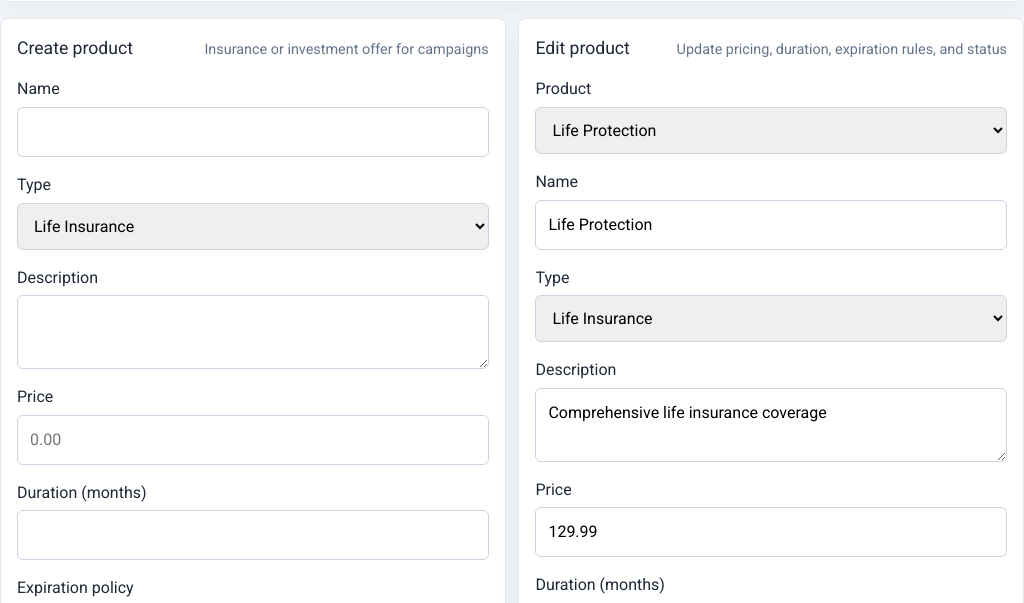
ProductsPage › validates the create product form before posting
Type "-5" into the field named "Product price" at (253, 440), box left=17, top=415, right=489, bottom=465
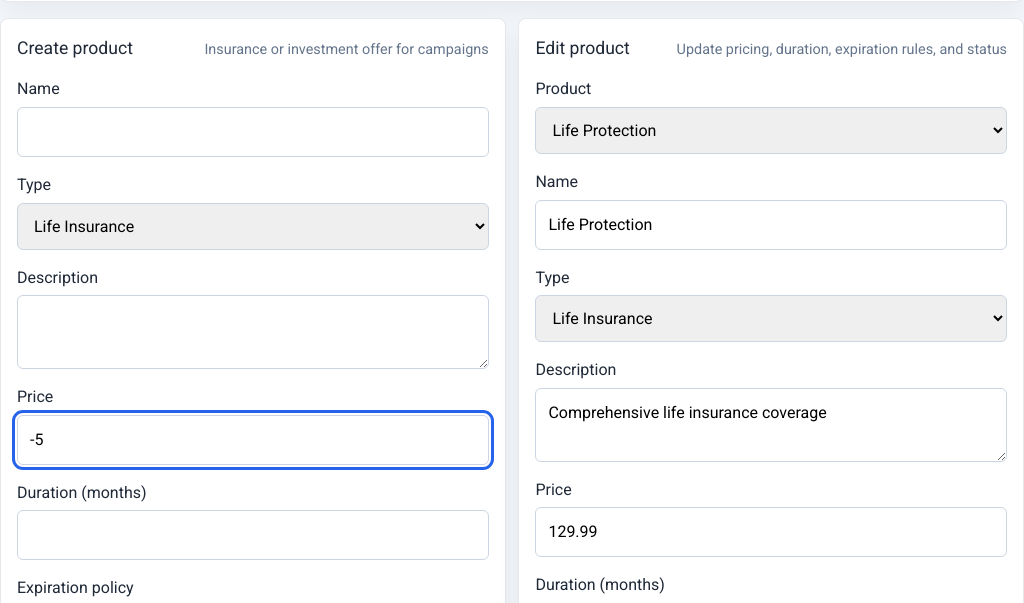
Type "0" into the field named "Product duration in months" at (253, 535), box left=17, top=510, right=489, bottom=560
(page scrolled)
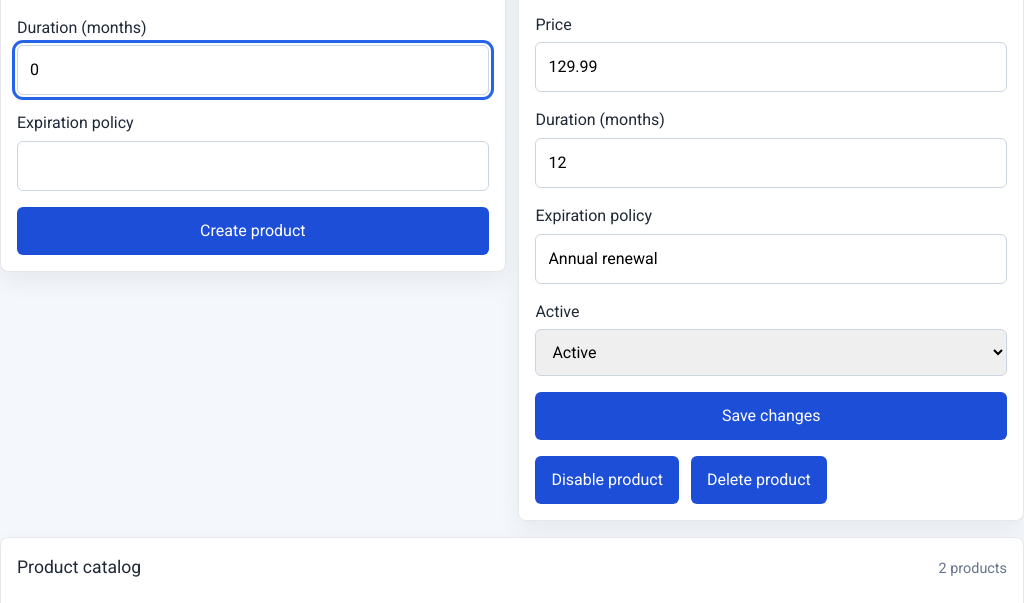
Click the button "Create product" at (253, 231), box left=17, top=207, right=489, bottom=255
(page scrolled)
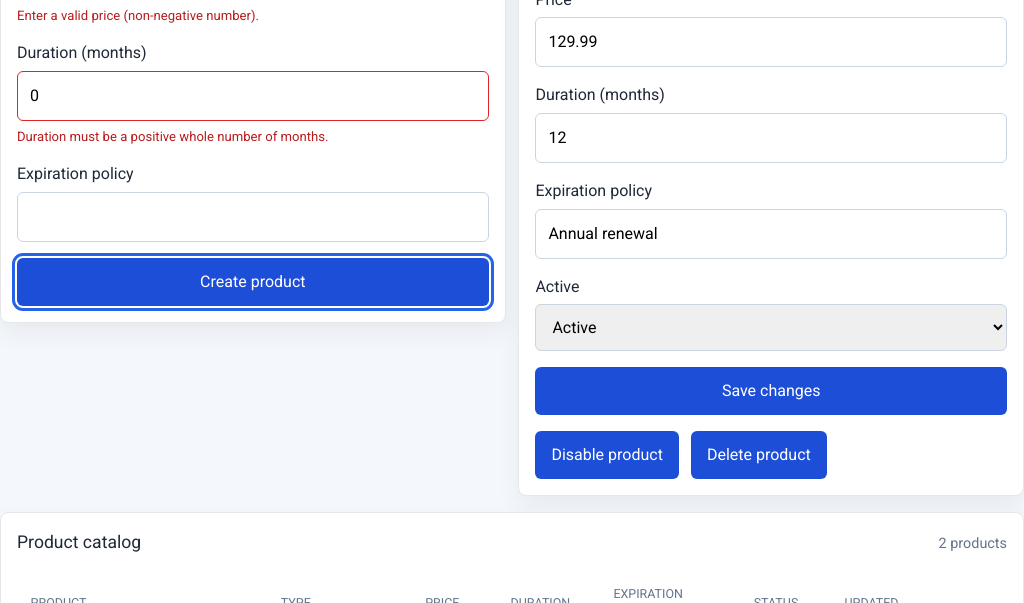
Result: the text "Enter a valid price (non-negative number)." is shown at left=17, top=8, right=259, bottom=23
Result: the text "Duration must be a positive whole number of months." is shown at left=17, top=128, right=328, bottom=144
